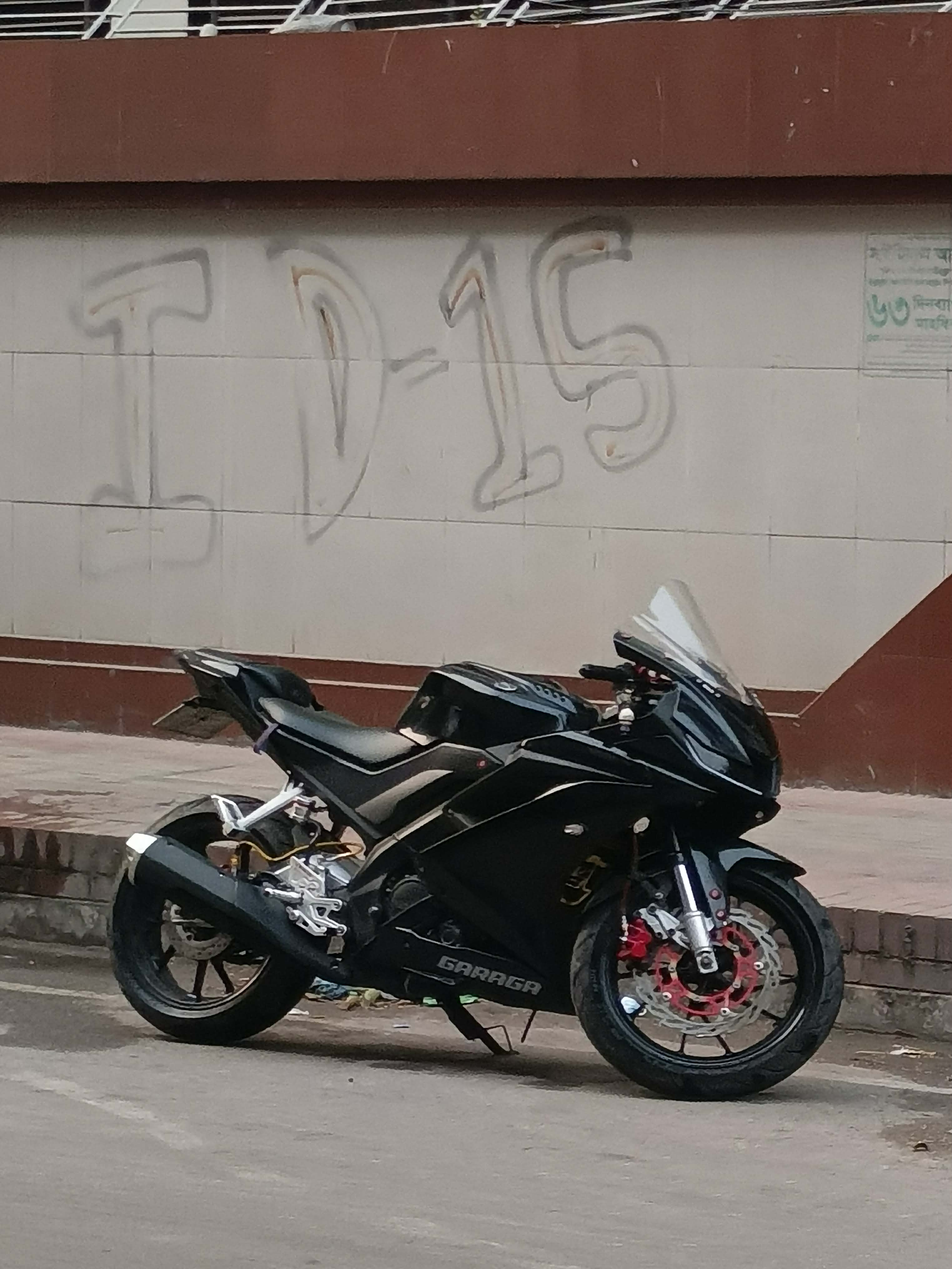Bikes: (87, 579, 854, 1105)
